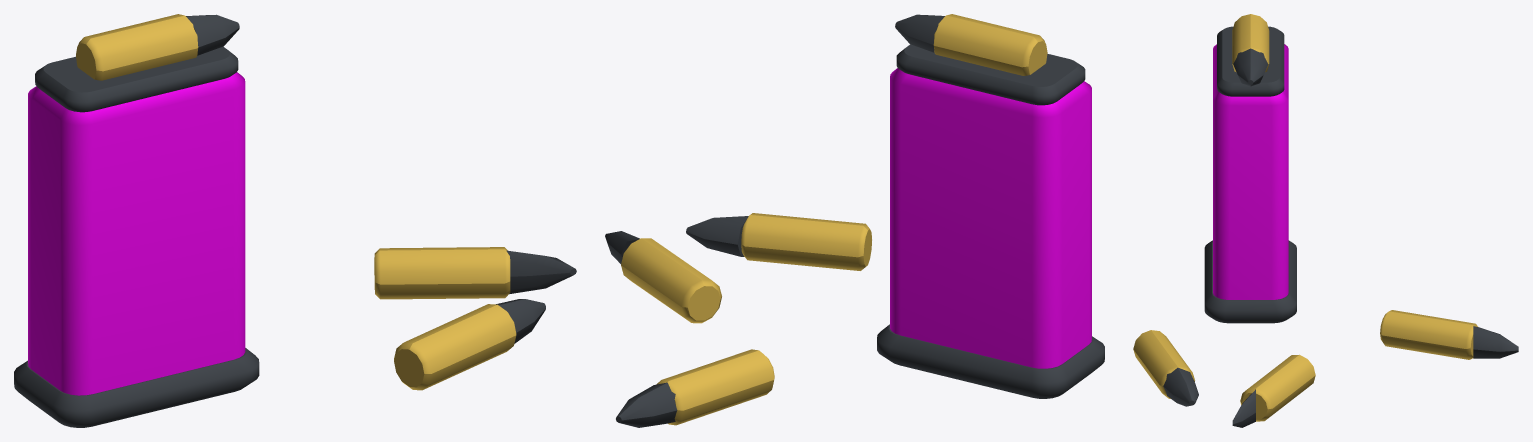
Rendered from objet_chargeur_sniper.glb.
3 renders of one model, left to right at view 1: azimuth 30°, elevation 25°; view 2: azimuth 150°, elevation 25°; view 3: azimuth 270°, elevation 25°, orthographic. The views are drawn at different scales.
Parts seen in each view (by area): view 1: chargeur_teinte.006, chargeur_teinte_sombre.006, chargeur_laiton.006; view 2: chargeur_teinte.006, chargeur_laiton.006, chargeur_teinte_sombre.006; view 3: chargeur_teinte.006, chargeur_teinte_sombre.006, chargeur_laiton.006.
Part boxes in pixels (bbox=[...]): chargeur_teinte.006: bbox=[28, 72, 245, 395]; chargeur_teinte_sombre.006: bbox=[14, 14, 576, 427]; chargeur_laiton.006: bbox=[76, 14, 516, 390]; chargeur_teinte.006: bbox=[890, 68, 1091, 368]; chargeur_laiton.006: bbox=[621, 14, 1047, 425]; chargeur_teinte_sombre.006: bbox=[605, 14, 1104, 427]; chargeur_teinte.006: bbox=[1213, 44, 1288, 299]; chargeur_teinte_sombre.006: bbox=[1163, 26, 1518, 427]; chargeur_laiton.006: bbox=[1133, 14, 1477, 421].
Bounding box in the file's own units: 0.2612 × 0.171 × 0.2291.
